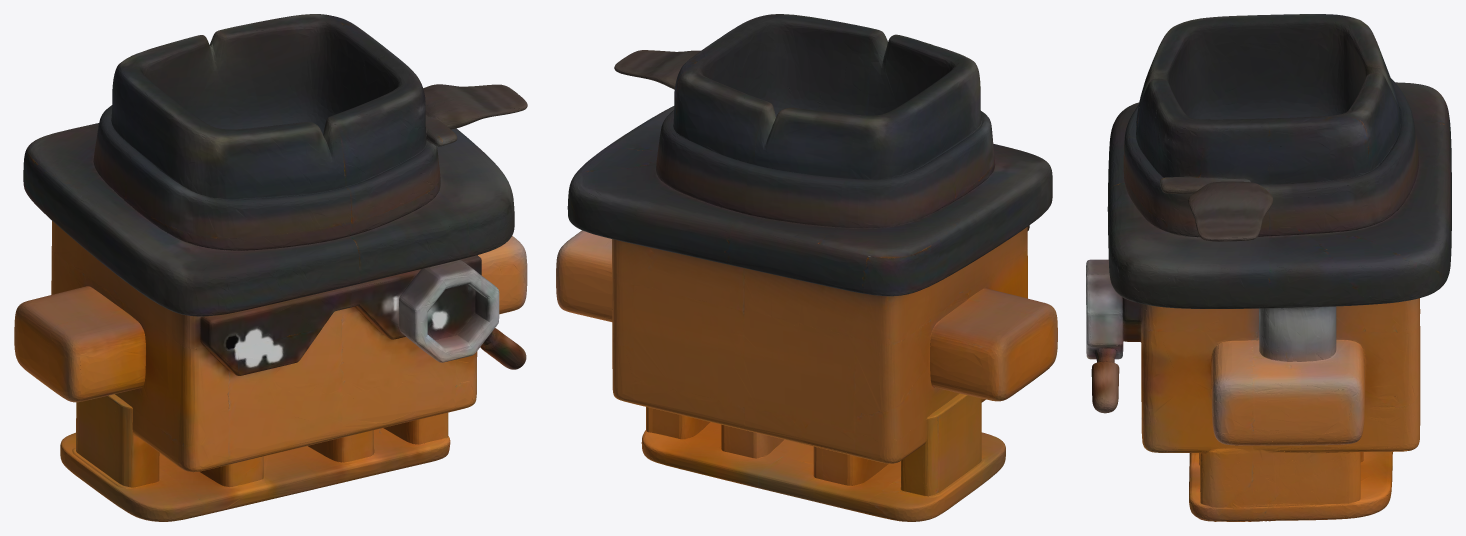
Rendered from clawd4.glb.
3 views of the same model, side by side, from view 1: azimuth 30°, elevation 25°; view 2: azimuth 150°, elevation 25°; view 3: azimuth 270°, elevation 25° (orthographic). The views are drawn at different scales.
Parts seen in each view (by area): view 1: geometry_0; view 2: geometry_0; view 3: geometry_0.
Boxes of the visible parts, <box> form: geometry_0: <box>14,14,527,521</box>; geometry_0: <box>556,14,1057,521</box>; geometry_0: <box>1086,14,1451,521</box>.
Bounding box in the file's own units: 0.9999 × 0.8344 × 0.7142.
1 material, 1 textured.
